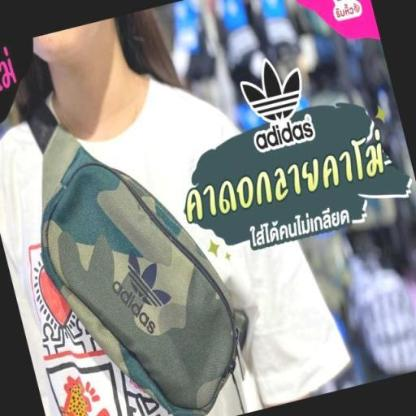bag: (26, 118, 257, 416)
